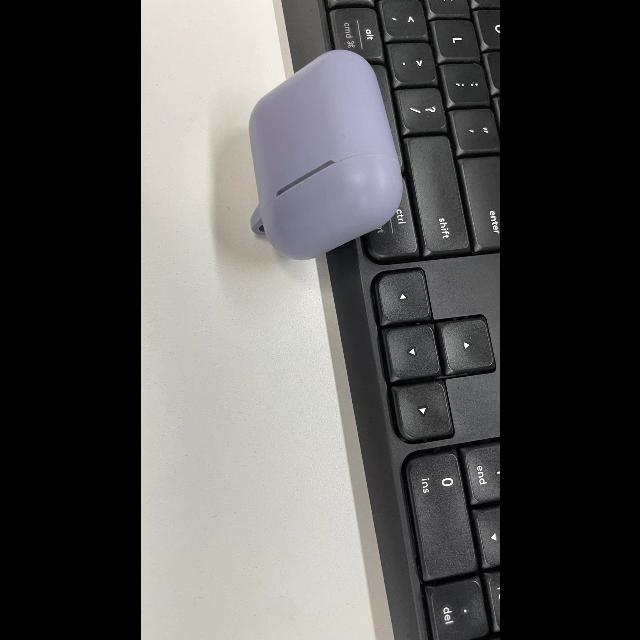airpods: (247, 51, 403, 264)
